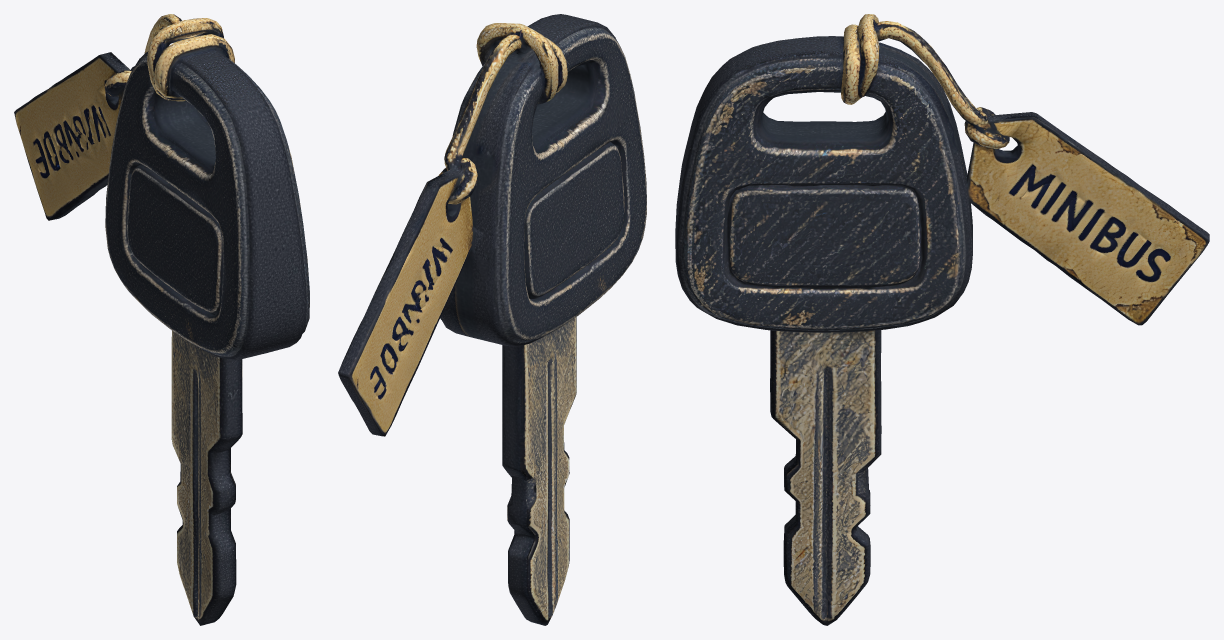
Rendered from KeyMinibus.fbx.
The picture shows the model from 3 angles, left to right: view 1: azimuth 30°, elevation 25°; view 2: azimuth 150°, elevation 25°; view 3: azimuth 270°, elevation 25°; orthographic projection. The views are drawn at different scales.
Parts seen in each view (by area): view 1: tripo_node_df36d83c-74ee-40a1-85aa-6a23dae712d6; view 2: tripo_node_df36d83c-74ee-40a1-85aa-6a23dae712d6; view 3: tripo_node_df36d83c-74ee-40a1-85aa-6a23dae712d6.
Part boxes in pixels (x1,y1,x2,y2): tripo_node_df36d83c-74ee-40a1-85aa-6a23dae712d6: (14,14,309,625); tripo_node_df36d83c-74ee-40a1-85aa-6a23dae712d6: (338,14,646,625); tripo_node_df36d83c-74ee-40a1-85aa-6a23dae712d6: (675,14,1209,625).
Bounding box in the file's own units: 13.97 × 100 × 80.23.
Materials: 1 (1 with a texture image).
